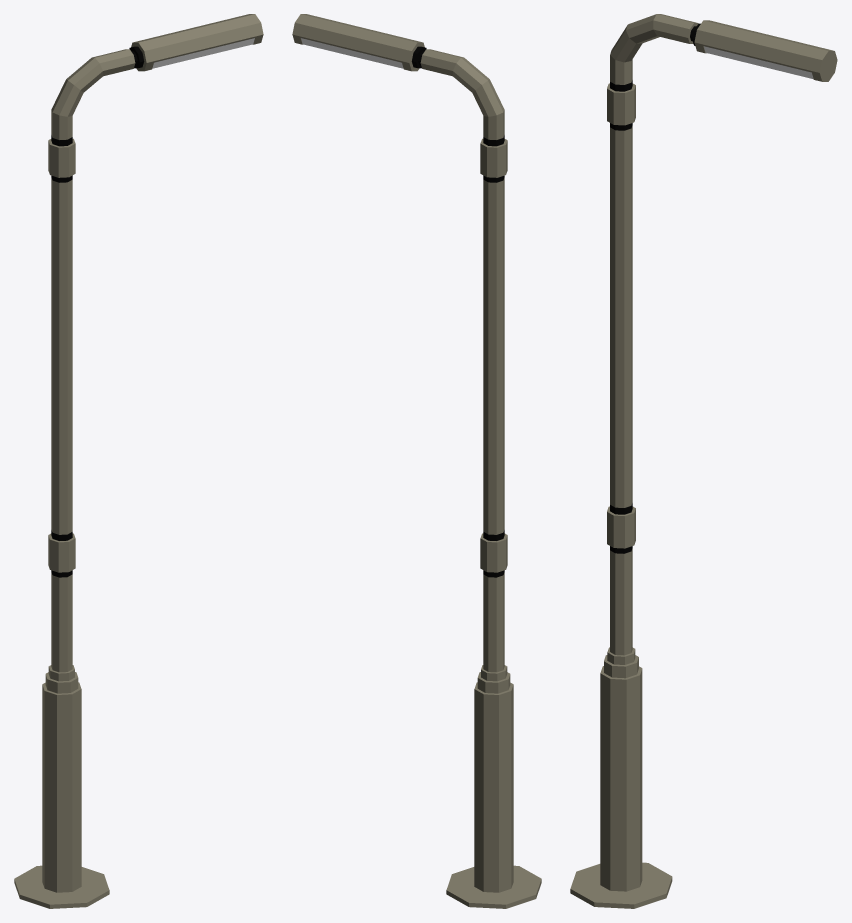
The model's file is lamp.glb.
3 views of the same model, side by side, from view 1: azimuth 30°, elevation 25°; view 2: azimuth 150°, elevation 25°; view 3: azimuth 330°, elevation 25° (orthographic). The views are drawn at different scales.
Visible parts, largest first — view 1: Lamp; view 2: Lamp; view 3: Lamp.
Boxes of the visible parts, <box> form: Lamp: <box>14,14,263,908</box>; Lamp: <box>292,14,541,908</box>; Lamp: <box>570,14,837,908</box>.
Bounding box in the file's own units: 1.22 × 4.08 × 0.4502.
3 materials, 3 textured.
